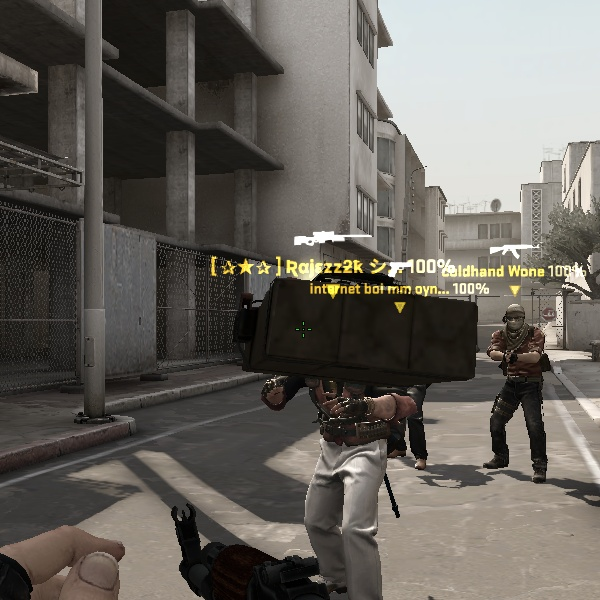t_body: (463, 304, 562, 477)
t_head: (496, 301, 532, 337)
